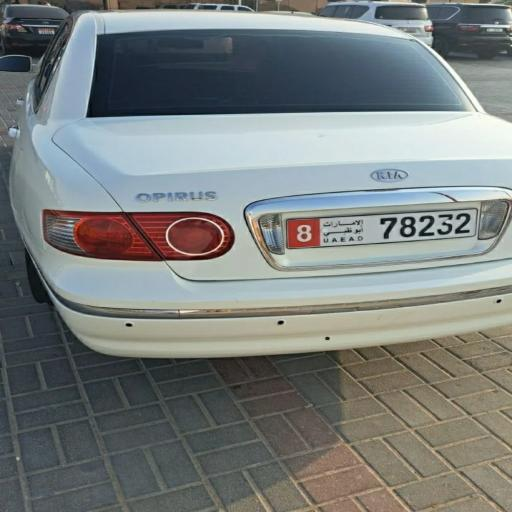license-plates: (286, 209, 478, 249), (38, 28, 55, 34), (398, 28, 417, 32), (486, 28, 503, 32)
